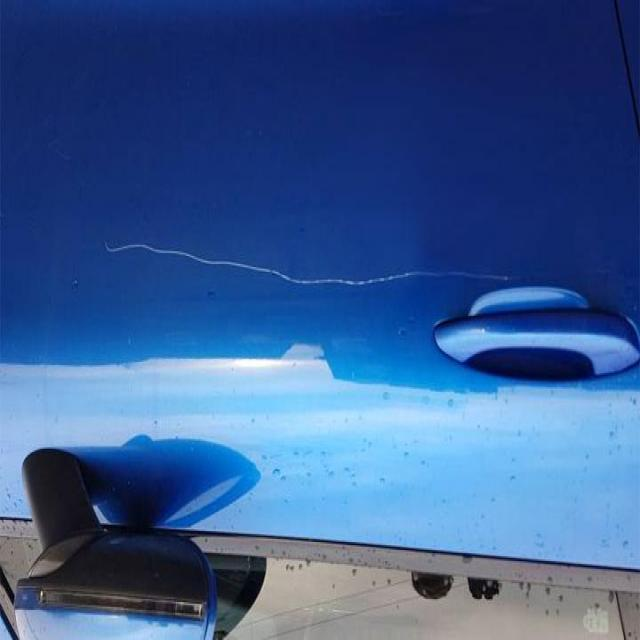scratch: (97, 223, 511, 314)
